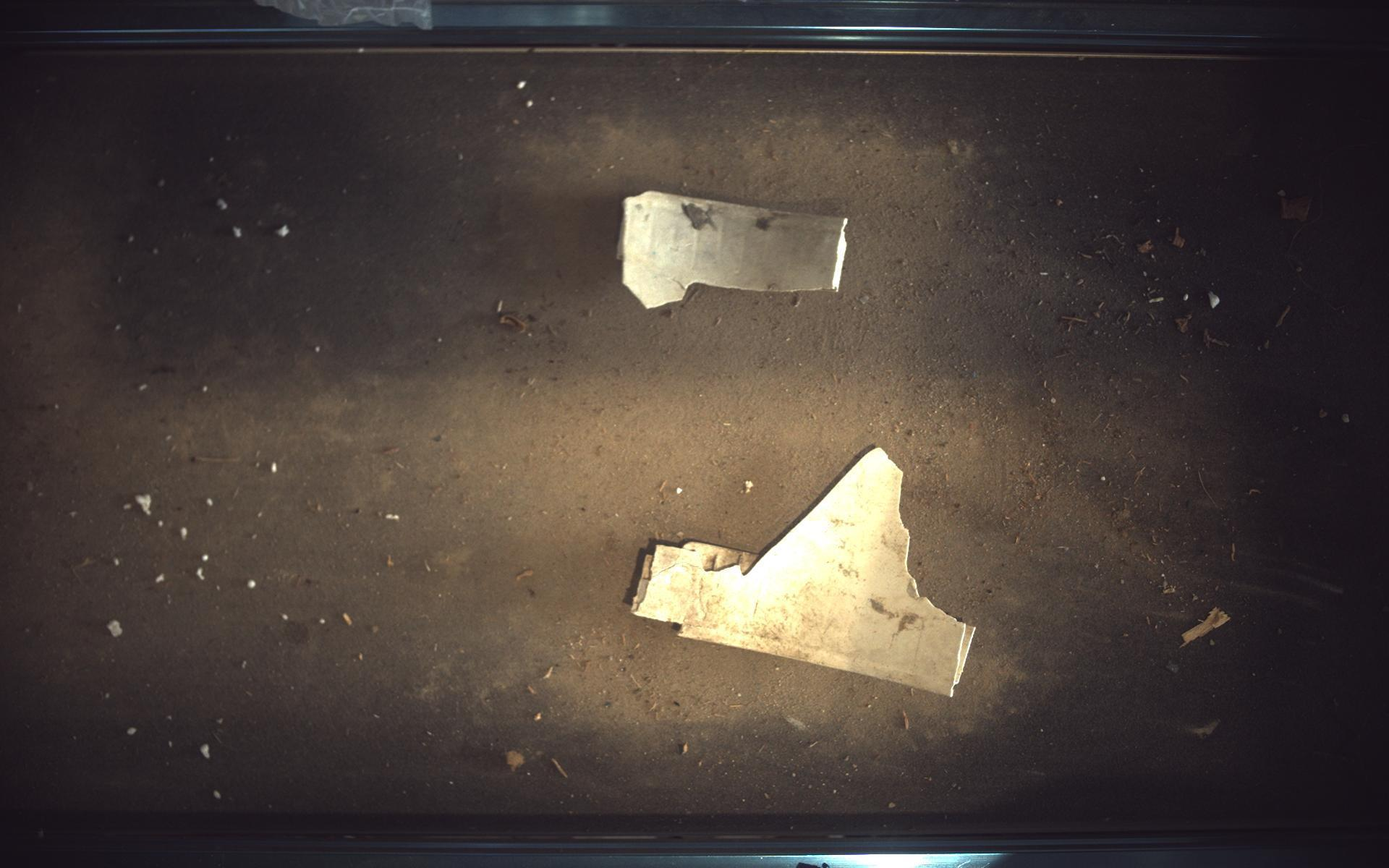plastic: (632, 448, 976, 697), (619, 190, 849, 308)
